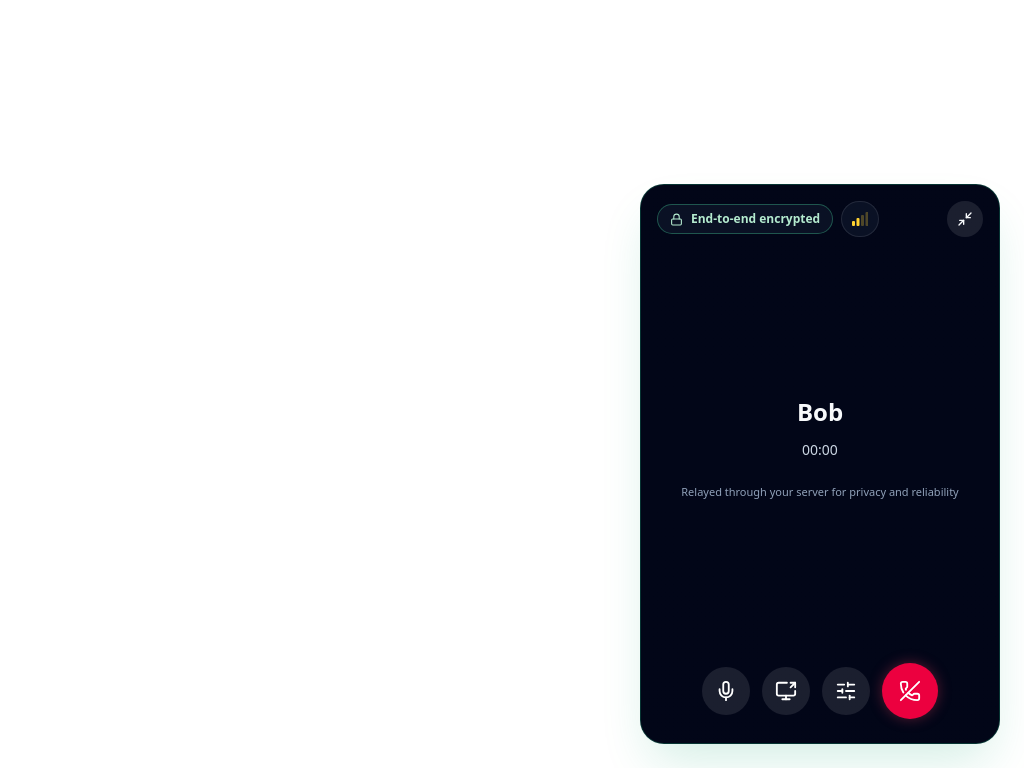
Test: the connection indicator › the settings say what holds a poor connection back, and that it is relayed
Step 1. Click the button named "Call settings" → (846, 691), box [822,667,870,715]
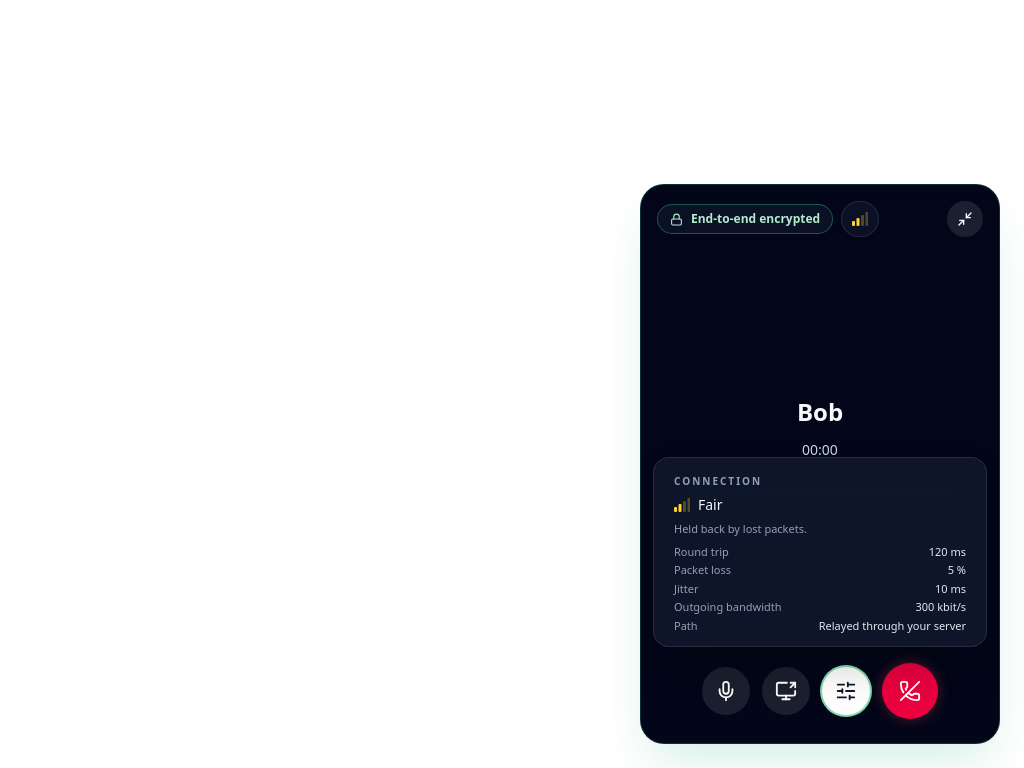
Check: the element "Connection Fair Held back by lost packets." is shown, box [698,495,722,514]
